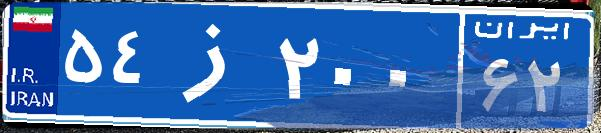0: (385, 28, 445, 110), (330, 28, 385, 110)
2: (273, 28, 330, 110), (525, 38, 570, 115)
4: (110, 28, 158, 105)
5: (57, 26, 110, 107)
6: (475, 38, 525, 113)
ز: (158, 15, 273, 115)
